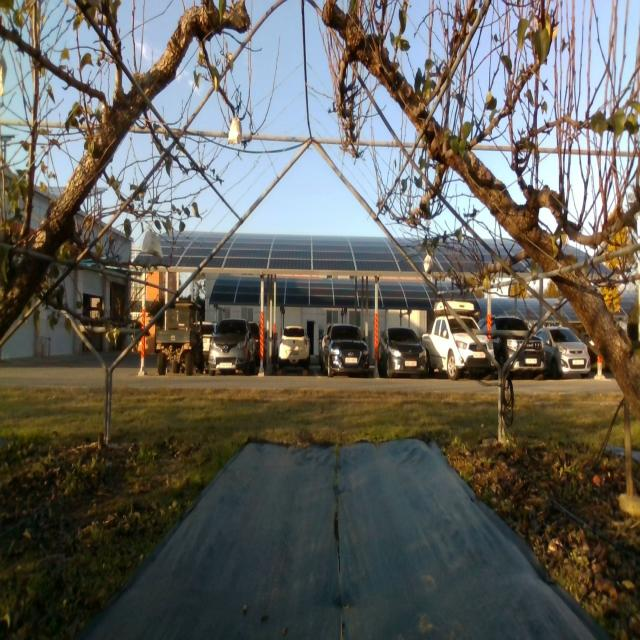pearbags: (142, 232, 163, 258), (228, 116, 242, 145)
